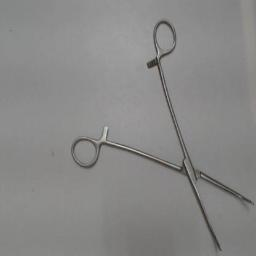Lahey Forceps: (70, 12, 254, 254)
